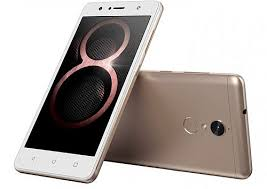lenovo: (12, 1, 164, 185)
